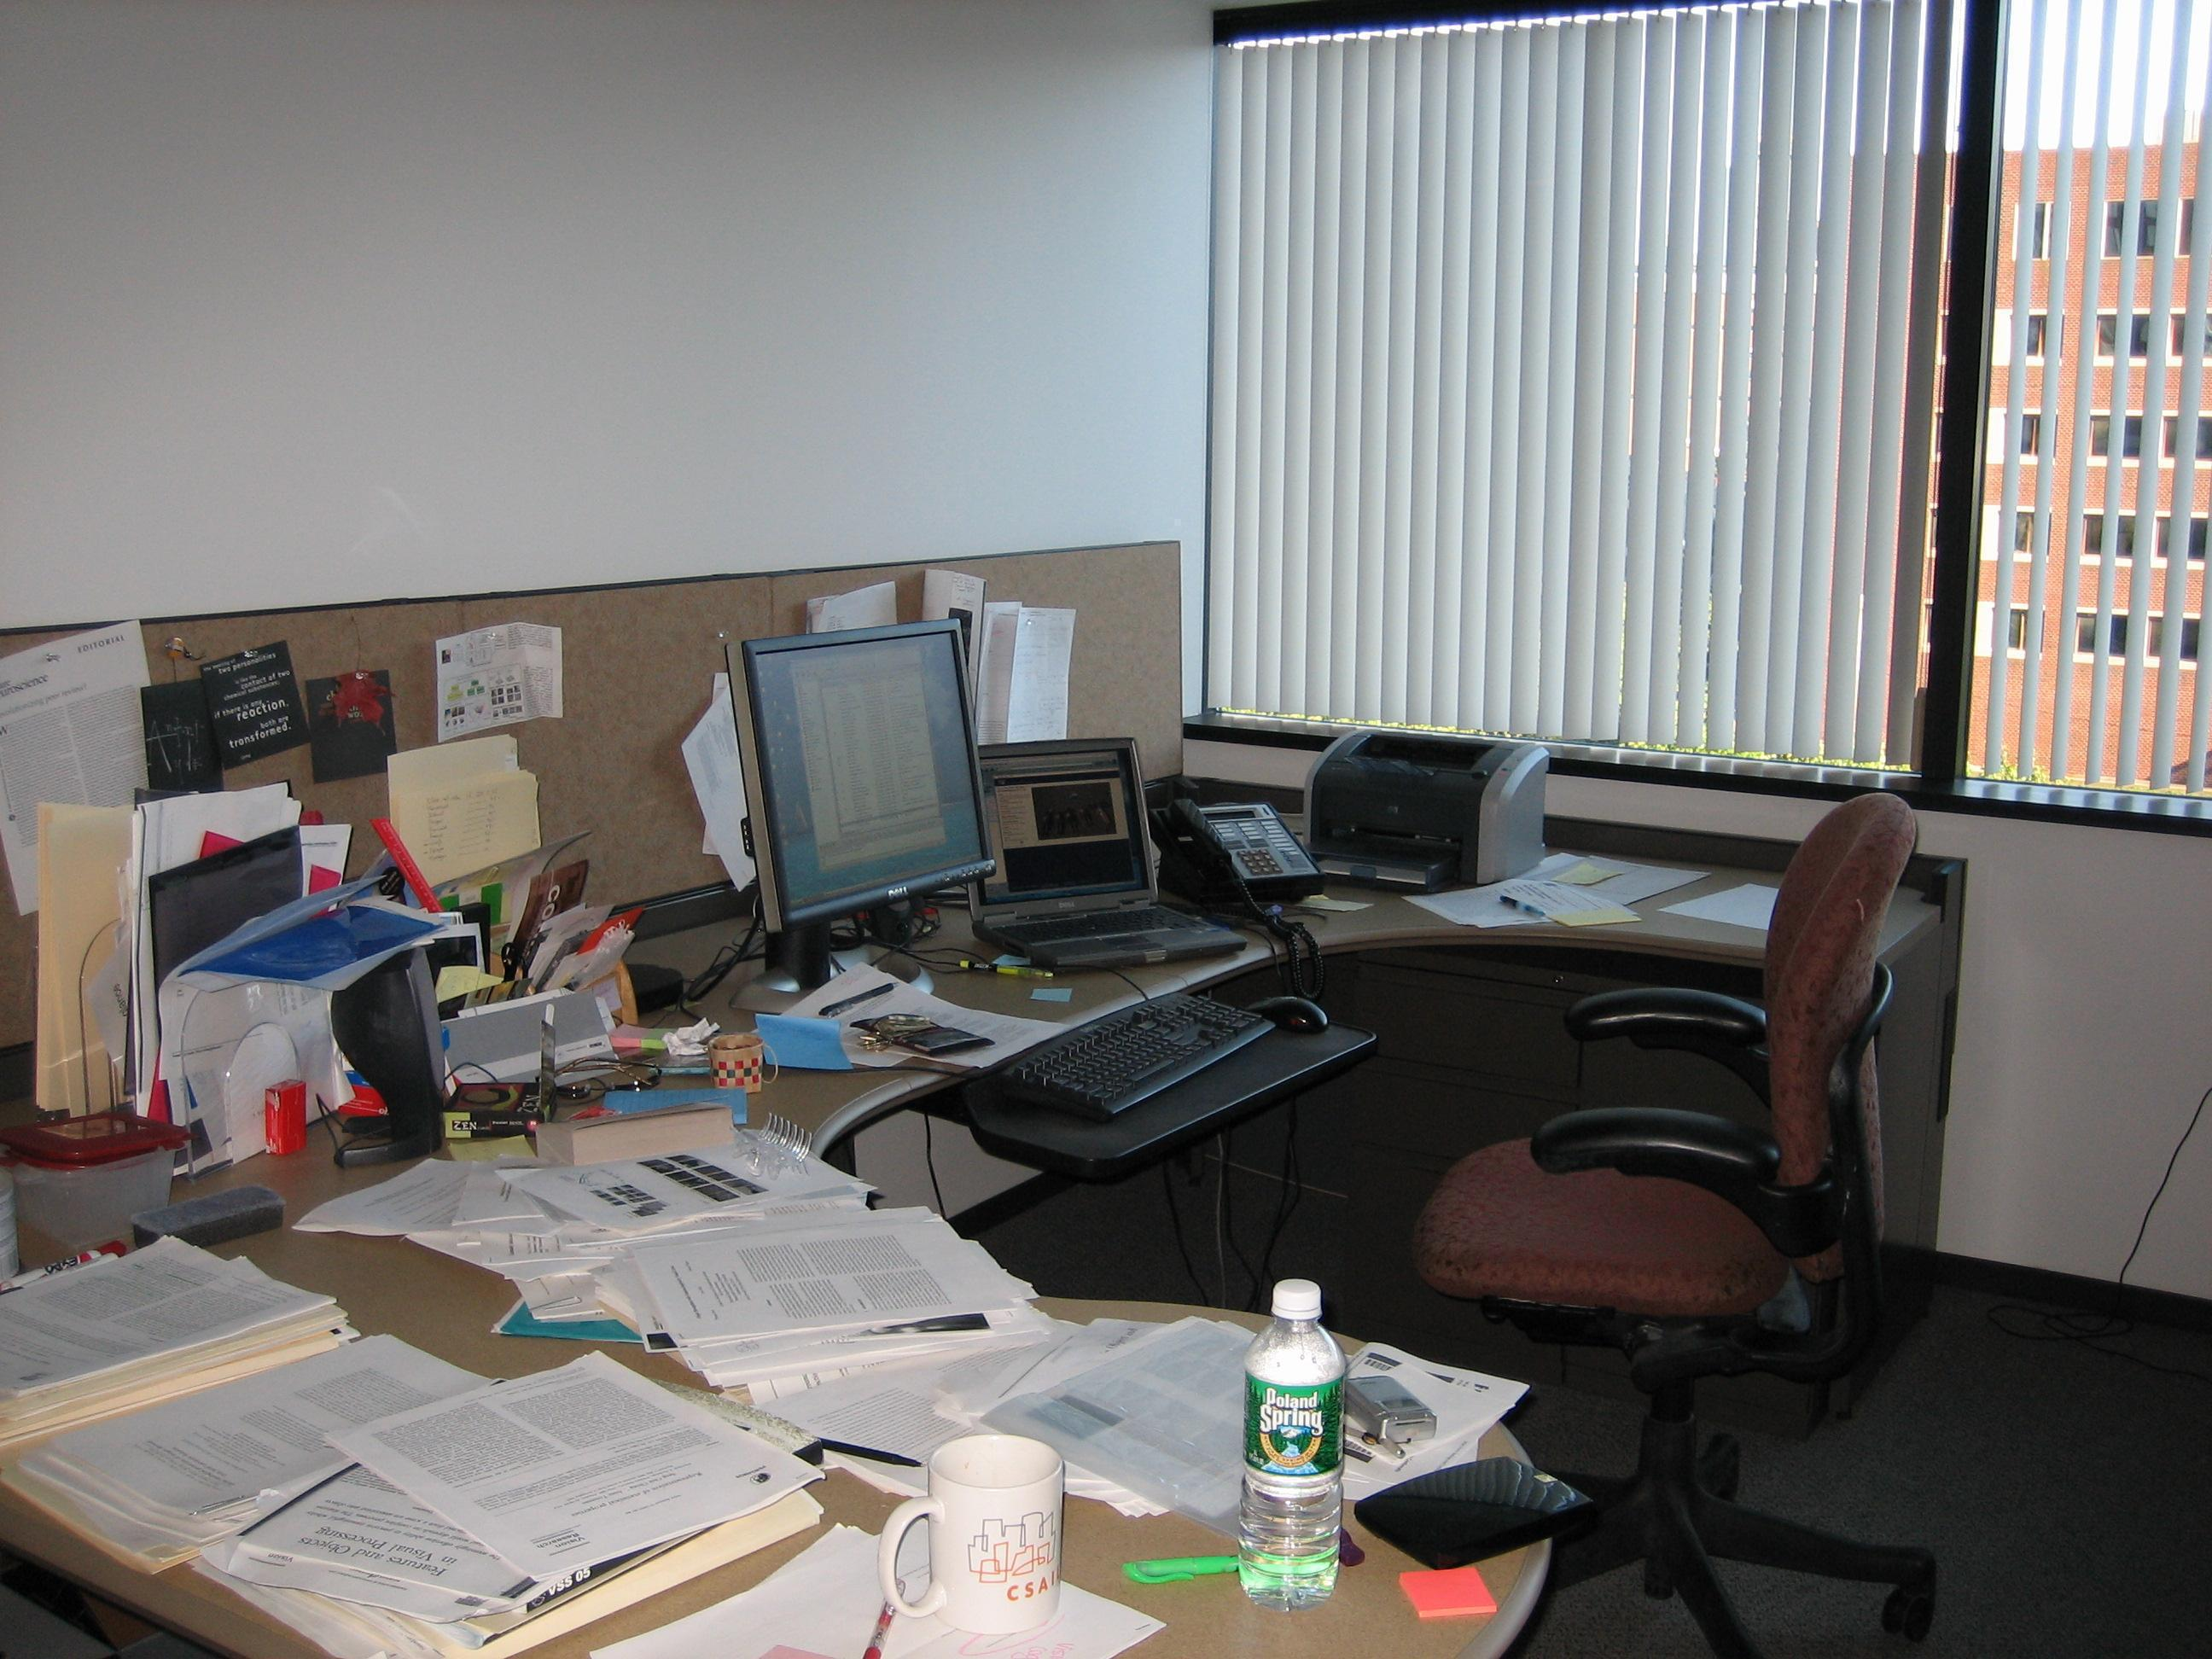Ventana: (1224, 33, 2195, 798)
